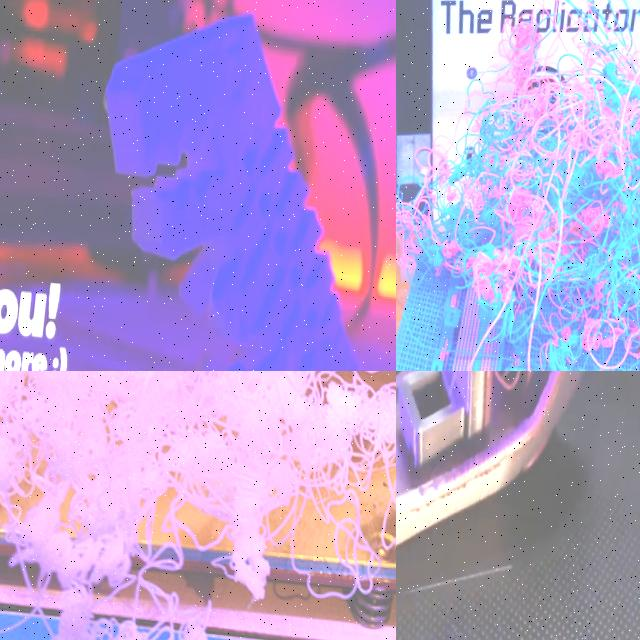spaghetti: (0, 371, 396, 613), (403, 21, 640, 371), (22, 574, 301, 640)
